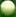white: (0, 0, 16, 17)
